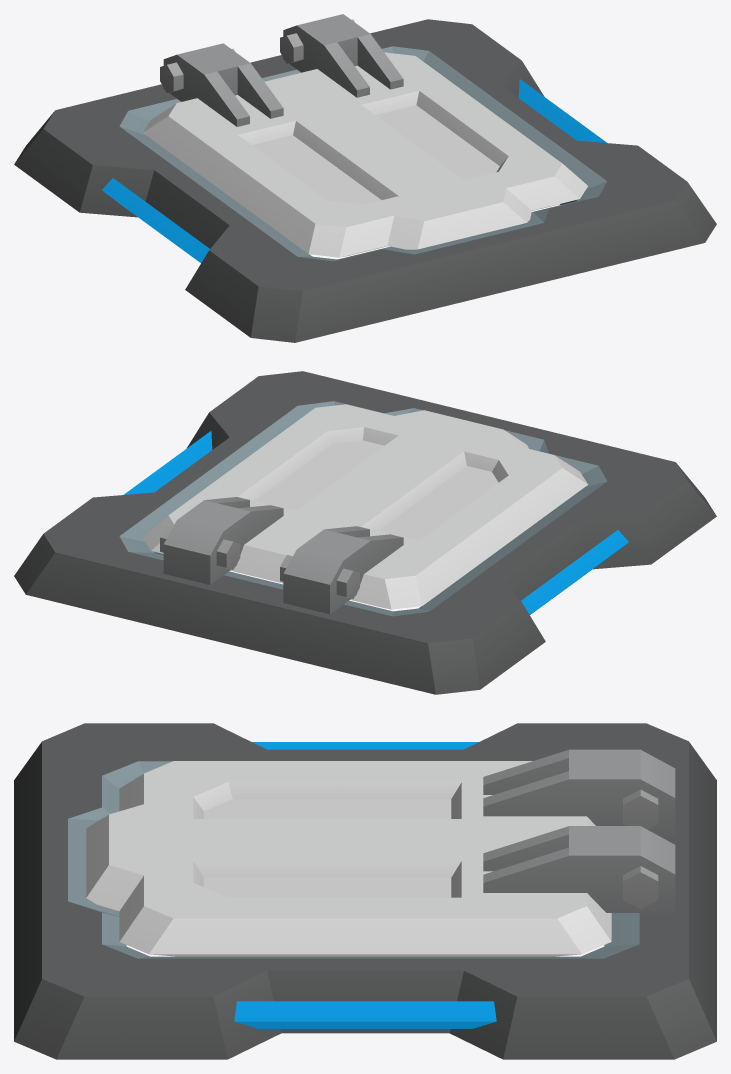
The model's file is Hatch_012.glb.
The picture shows the model from 3 angles, top to bottom: view 1: azimuth 30°, elevation 25°; view 2: azimuth 150°, elevation 25°; view 3: azimuth 270°, elevation 25°; orthographic projection. The views are drawn at different scales.
Parts seen in each view (by area): view 1: Hatch_012; view 2: Hatch_012; view 3: Hatch_012.
Boxes of the visible parts, x1,y1,x2,y2 form: Hatch_012: (14,14,716,342); Hatch_012: (14,371,716,694); Hatch_012: (14,723,716,1059).
Bounding box in the file's own units: 1 × 0.17 × 1.
Materials: 2 (2 with a texture image).
